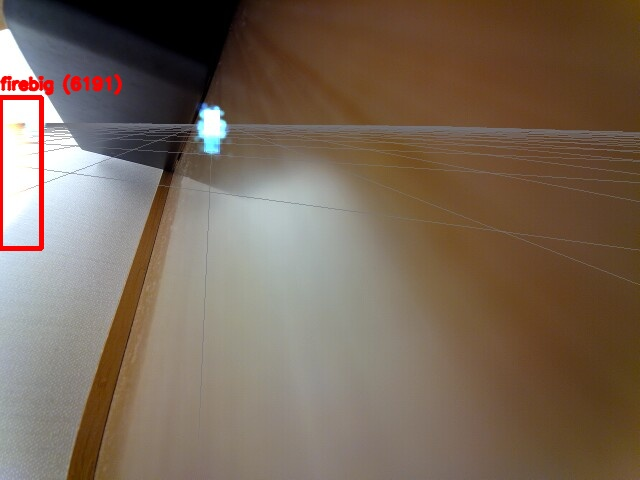firebig: (0, 97, 41, 248)
